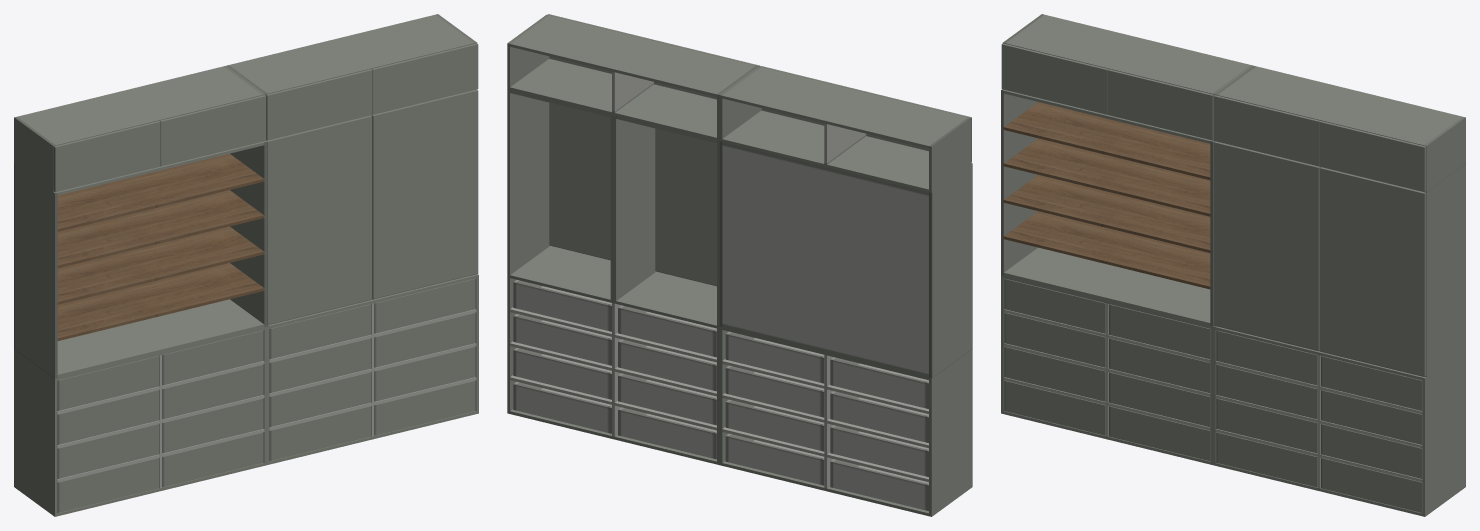
Rendered from meublep.glb.
3 views of the same model, side by side, from view 1: azimuth 30°, elevation 25°; view 2: azimuth 150°, elevation 25°; view 3: azimuth 330°, elevation 25° (orthographic).
Parts seen in each view (by area): view 1: world; view 2: world; view 3: world.
Part boxes in pixels (left/top/right/bottom): world: left=14, top=14, right=478, bottom=516; world: left=507, top=14, right=972, bottom=516; world: left=1001, top=14, right=1465, bottom=516.
Size of the model in its own units: 3 by 2.5 by 0.5.
Materials: 1 (1 with a texture image).
